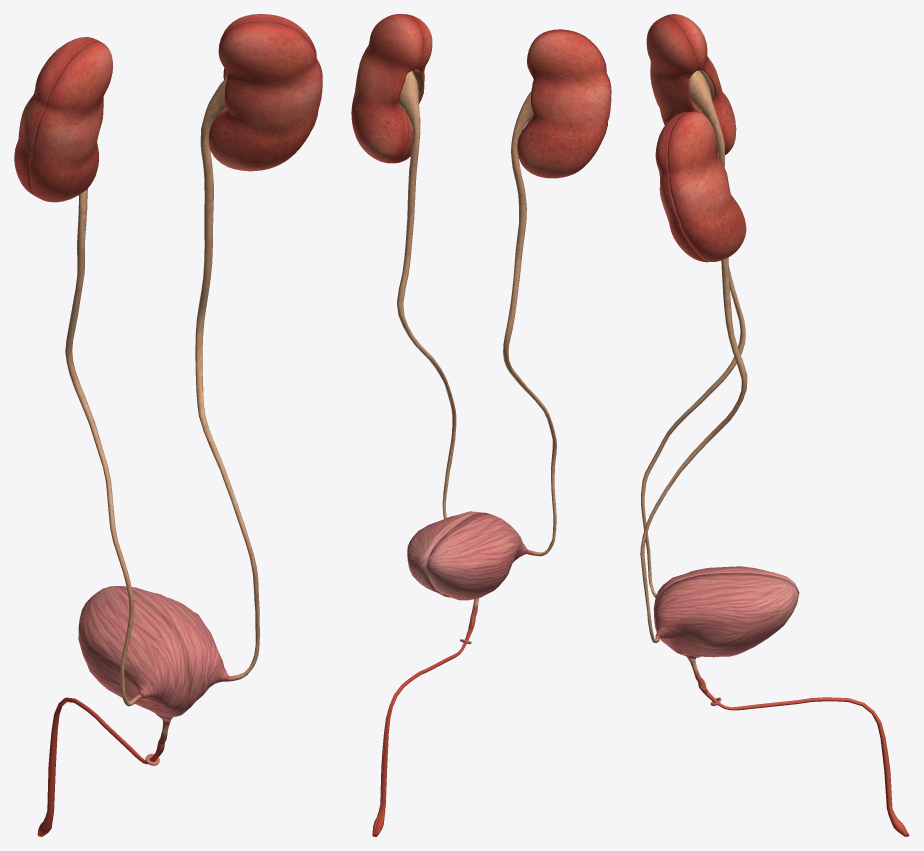
Rendered from urinary.glb.
3 views of the same model, side by side, from view 1: azimuth 30°, elevation 25°; view 2: azimuth 150°, elevation 25°; view 3: azimuth 270°, elevation 25° (orthographic). The views are drawn at different scales.
Parts seen in each view (by area): view 1: Renal capsule, back half, R#~302780, Bladder, L half#Male~300050, Renal capsule, back half, L#~302912, Ureter, R#Male~001554, Bladder, R half#Male~300051, Ureter, L#Male~001561, Renal capsule, front half, L#~302913, Urethra, spongy portion (penile), L half#Male~001565, Renal capsule, front half, R#~302786; view 2: Renal capsule, front half, L#~302913, Renal capsule, front half, R#~302786, Bladder, L half#Male~300050, Ureter, L#Male~001561, Ureter, R#Male~001554, Bladder, R half#Male~300051, Urethra, spongy portion (penile), L half#Male~001565, Renal capsule, back half, R#~302780, Renal pelvis, R#~001553; view 3: Bladder, R half#Male~300051, Renal capsule, front half, R#~302786, Renal capsule, back half, L#~302912, Ureter, R#Male~001554, Ureter, L#Male~001561, Renal capsule, front half, L#~302913, Renal capsule, back half, R#~302780, Urethra, spongy portion (penile), R half#Male~300064, Bladder, L half#Male~300050, Renal pelvis, L#~001560.
Boxes of the visible parts, left/top/right/bottom form: Renal capsule, back half, R#~302780: left=209, top=21, right=322, bottom=171; Bladder, L half#Male~300050: left=78, top=586, right=189, bottom=716; Renal capsule, back half, L#~302912: left=29, top=40, right=112, bottom=202; Ureter, R#Male~001554: left=195, top=94, right=259, bottom=681; Bladder, R half#Male~300051: left=114, top=586, right=229, bottom=715; Ureter, L#Male~001561: left=65, top=188, right=141, bottom=706; Renal capsule, front half, L#~302913: left=14, top=37, right=98, bottom=196; Urethra, spongy portion (penile), L half#Male~001565: left=37, top=697, right=148, bottom=836; Renal capsule, front half, R#~302786: left=218, top=14, right=322, bottom=79; Renal capsule, front half, L#~302913: left=517, top=30, right=611, bottom=178; Renal capsule, front half, R#~302786: left=351, top=14, right=423, bottom=163; Bladder, L half#Male~300050: left=426, top=513, right=528, bottom=600; Ureter, L#Male~001561: left=503, top=105, right=556, bottom=556; Ureter, R#Male~001554: left=397, top=101, right=456, bottom=518; Bladder, R half#Male~300051: left=407, top=511, right=485, bottom=597; Urethra, spongy portion (penile), L half#Male~001565: left=373, top=644, right=465, bottom=836; Renal capsule, back half, R#~302780: left=394, top=14, right=432, bottom=163; Renal pelvis, R#~001553: left=399, top=72, right=418, bottom=113; Bladder, R half#Male~300051: left=654, top=572, right=799, bottom=657; Renal capsule, front half, R#~302786: left=667, top=111, right=746, bottom=261; Renal capsule, back half, L#~302912: left=646, top=17, right=717, bottom=154; Ureter, R#Male~001554: left=640, top=257, right=747, bottom=642; Ureter, L#Male~001561: left=641, top=101, right=745, bottom=597; Renal capsule, front half, L#~302913: left=663, top=14, right=736, bottom=154; Renal capsule, back half, R#~302780: left=655, top=112, right=708, bottom=262; Urethra, spongy portion (penile), R half#Male~300064: left=718, top=697, right=909, bottom=836; Bladder, L half#Male~300050: left=653, top=566, right=798, bottom=609; Renal pelvis, L#~001560: left=689, top=71, right=712, bottom=114.
Size of the model in its own units: 0.3987 by 1.16 by 0.3649.
5 materials, 5 textured.
